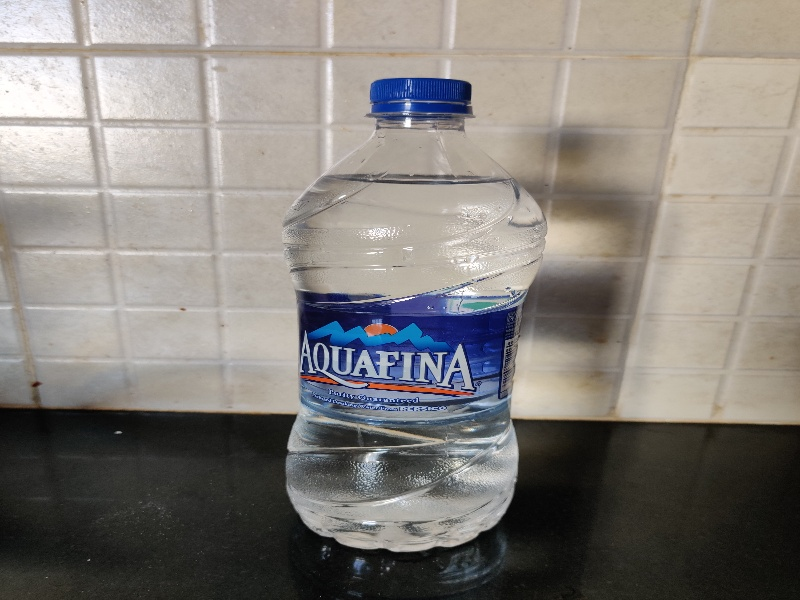bottle: (268, 70, 555, 558)
